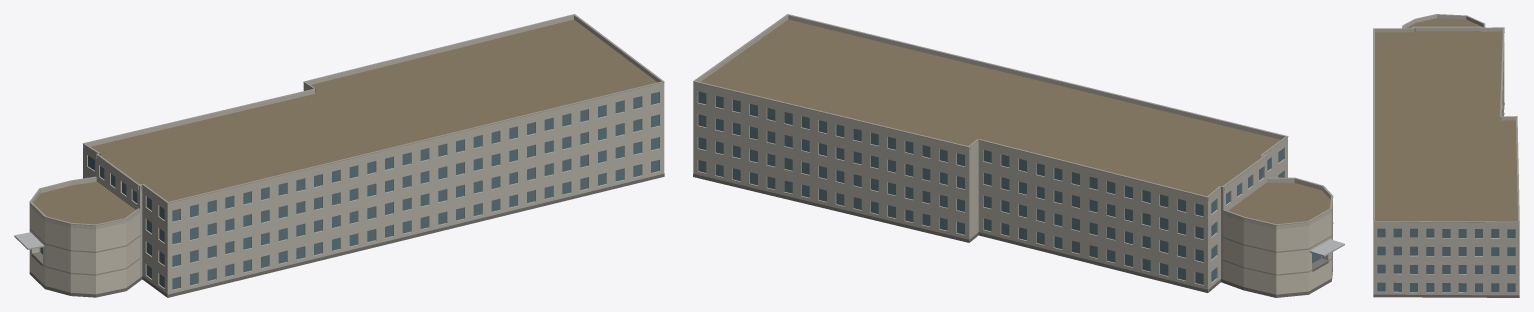
3 views of the same model, side by side, from view 1: azimuth 30°, elevation 25°; view 2: azimuth 150°, elevation 25°; view 3: azimuth 270°, elevation 25° (orthographic). The views are drawn at different scales.
Parts seen in each view (by area): view 1: culture__roof, culture__wall, culture__glass, culture__wall2, culture__parapet, culture__trim, culture__base, culture__frame; view 2: culture__roof, culture__wall, culture__glass, culture__wall2, culture__parapet, culture__trim, culture__base, culture__frame; view 3: culture__roof, culture__wall, culture__glass, culture__trim, culture__parapet, culture__base, culture__frame.
Part boxes in pixels (bbox=[...]): culture__roof: bbox=[33, 19, 657, 224]; culture__wall: bbox=[83, 86, 664, 297]; culture__glass: bbox=[40, 92, 659, 289]; culture__wall2: bbox=[29, 206, 139, 294]; culture__parapet: bbox=[29, 15, 664, 229]; culture__trim: bbox=[29, 14, 664, 275]; culture__base: bbox=[29, 173, 664, 297]; culture__frame: bbox=[91, 93, 659, 288]; culture__roof: bbox=[701, 19, 1330, 224]; culture__wall: bbox=[693, 85, 1287, 292]; culture__glass: bbox=[698, 91, 1320, 284]; culture__wall2: bbox=[1223, 201, 1332, 297]; culture__parapet: bbox=[693, 15, 1331, 229]; culture__trim: bbox=[693, 14, 1333, 275]; culture__base: bbox=[693, 174, 1332, 297]; culture__frame: bbox=[702, 92, 1316, 283]; culture__roof: bbox=[1375, 18, 1517, 297]; culture__wall: bbox=[1373, 43, 1519, 295]; culture__glass: bbox=[1377, 228, 1515, 292]; culture__trim: bbox=[1373, 14, 1519, 222]; culture__parapet: bbox=[1373, 14, 1519, 225]; culture__base: bbox=[1373, 103, 1519, 297]; culture__frame: bbox=[1381, 229, 1511, 291].
Bounding box in the file's own units: 116 × 17.62 × 30.92.
